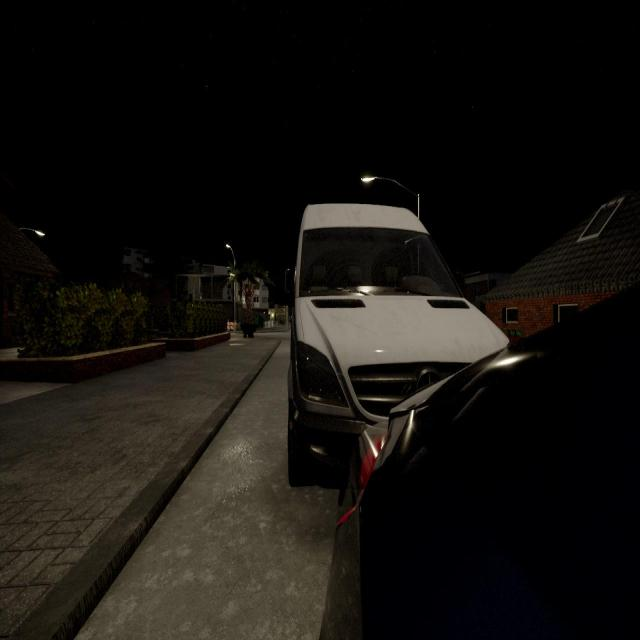Vehicle: (322, 290, 640, 640), (286, 201, 511, 486)
